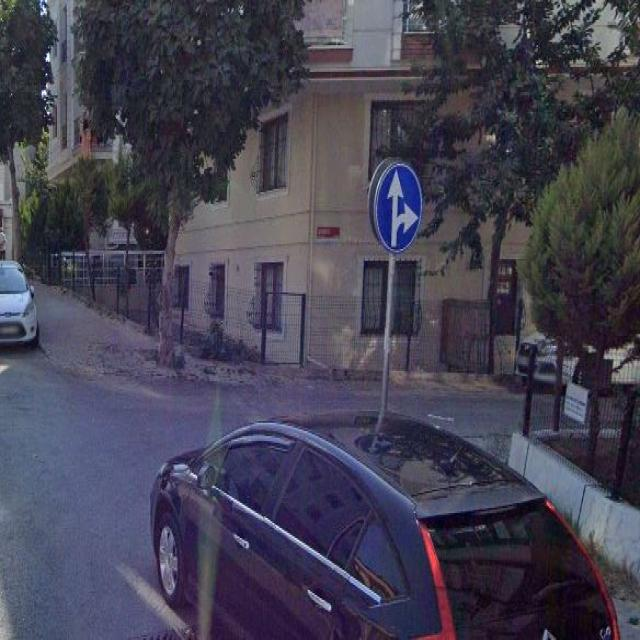ilerisag: (374, 162, 422, 256)
